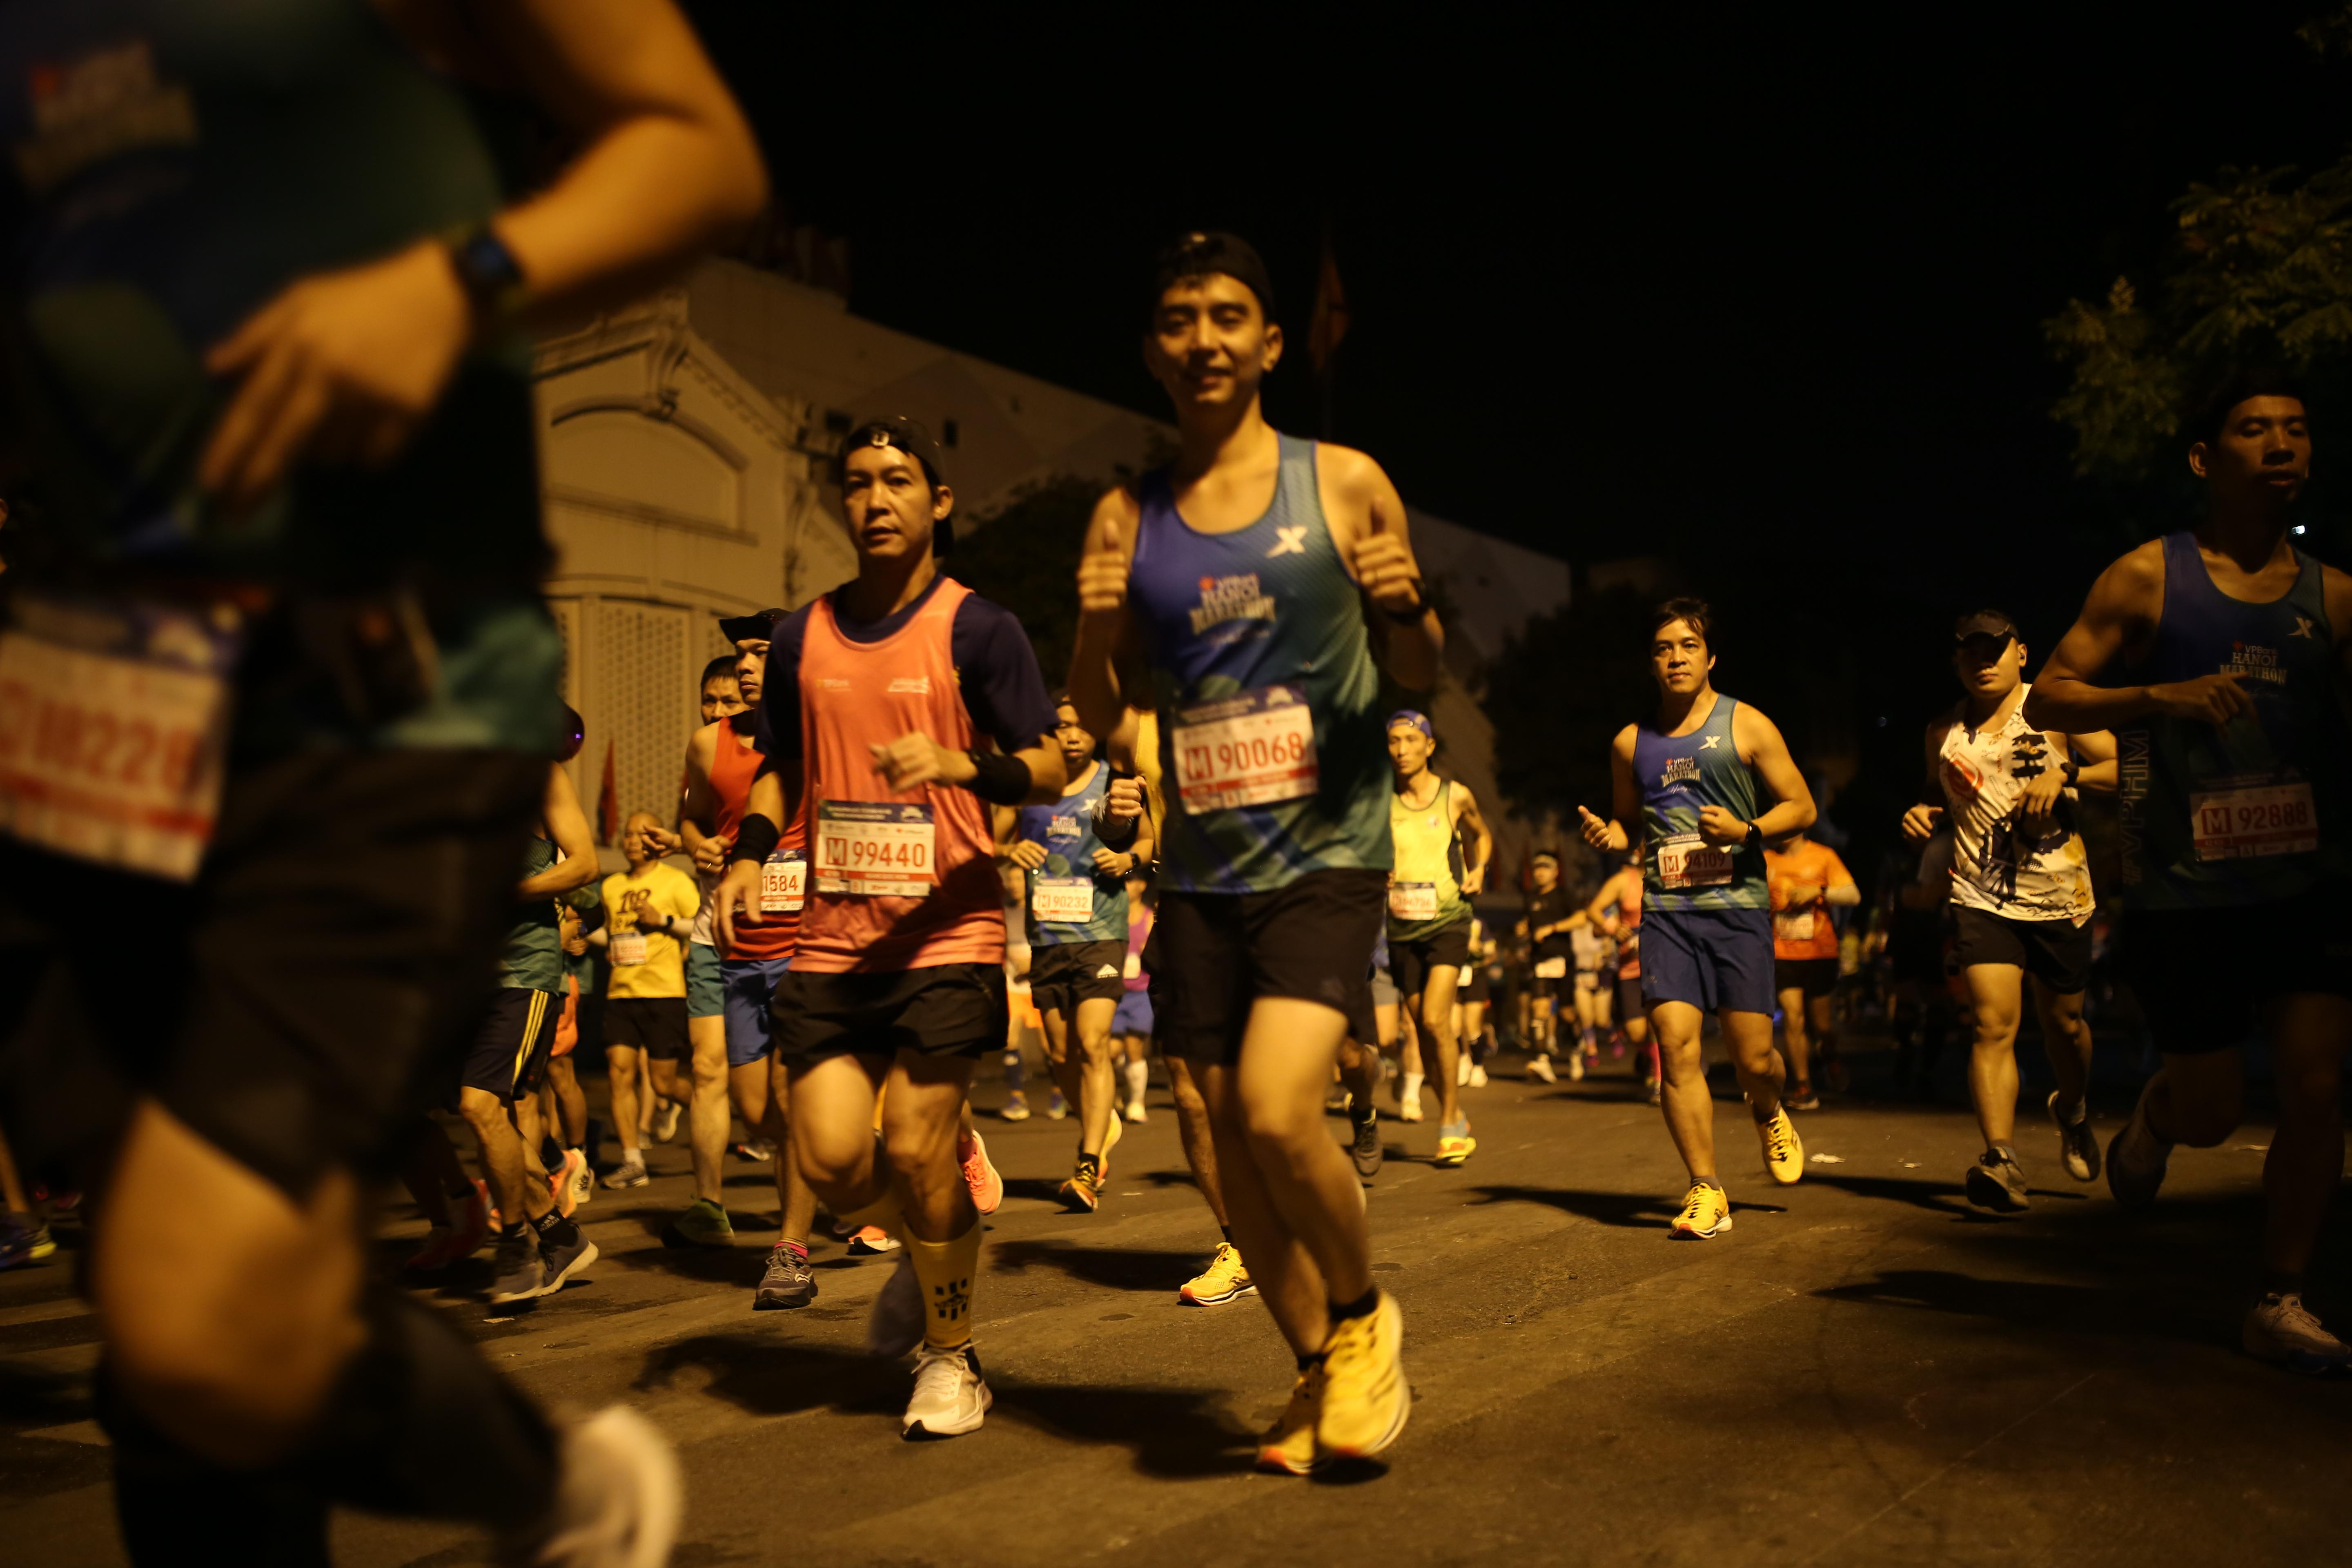bib: (0, 598, 234, 887), (1169, 686, 1321, 817), (815, 801, 933, 899), (2189, 786, 2319, 861), (1659, 838, 1731, 889), (758, 849, 807, 910), (1032, 877, 1094, 922), (1389, 882, 1438, 920), (607, 934, 649, 966), (1776, 910, 1813, 941), (1536, 957, 1563, 978)
